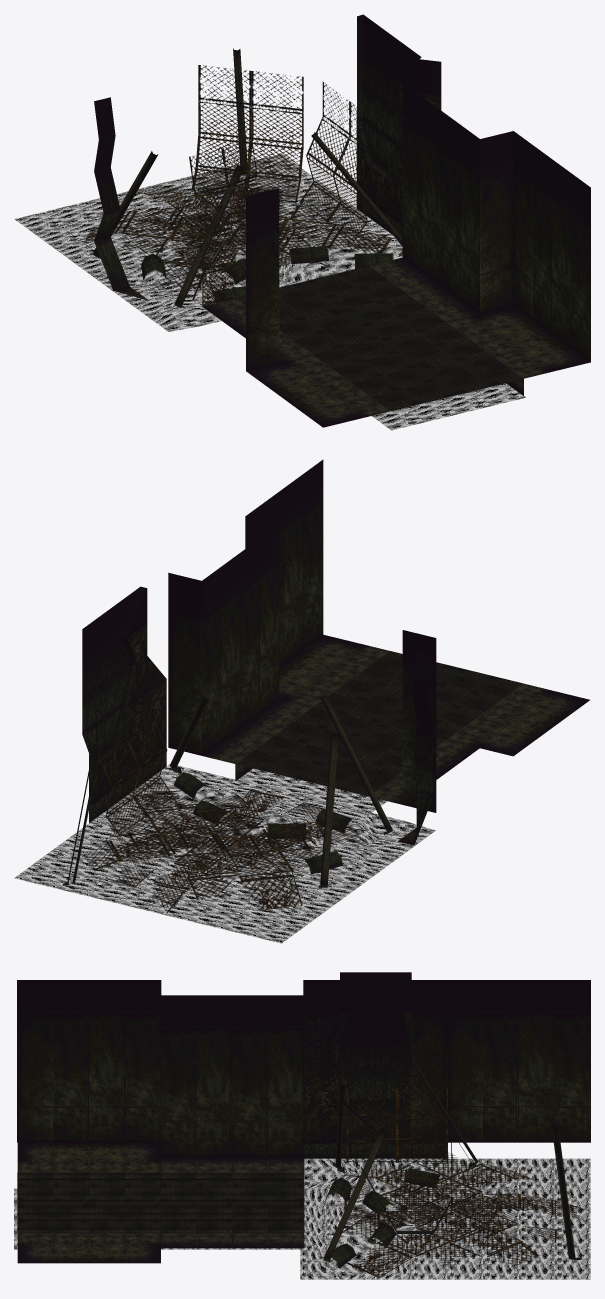
Rendered from DRFD00.glb.
3 renders of one model, top to bottom at view 1: azimuth 30°, elevation 25°; view 2: azimuth 150°, elevation 25°; view 3: azimuth 270°, elevation 25°, orthographic. The views are drawn at different scales.
Parts seen in each view (by area): view 1: MIZ2_DWA_m0, DEP#1_m0, KABE03_F_m0, W1_BACK0_m0, DR1401_m0, YUKNET00_m0, YUKNE_m0, SKIN1_m0, DEP_m0, AMI1_NEA_m0, AMI3_NEA_m0, AMI2_FAR_m0 (+8 smaller); view 2: MIZ2_DWA_m0, DEP#1_m0, W1_BACK0_m0, AMI1_NEA_m0, DR1401_m0, KABE03_F_m0, YUKNE_m0, AMI2_FAR_m0, YUKNET00_m0, AMI3_NEA_m0, DEP_m0, W2NU_BAC_m0 (+5 smaller); view 3: DR1401_m0, MIZ2_DWA_m0, DEP_m0, KABE10_B_m0, W2NU_BAC_m0, YUKNE_m0, YUKNET00_m0, AMI1_NEA_m0, AMI4_NEA_m0, AMI2_FAR_m0, DEP#1_m0, SKIN3_m0 (+8 smaller).
Boxes of the visible parts, x1,y1,x2,y2 form: MIZ2_DWA_m0: [14, 154, 402, 331]; DEP#1_m0: [370, 83, 513, 321]; KABE03_F_m0: [513, 131, 590, 362]; W1_BACK0_m0: [356, 14, 441, 237]; DR1401_m0: [246, 306, 590, 427]; YUKNET00_m0: [313, 322, 523, 411]; YUKNE_m0: [236, 265, 446, 354]; SKIN1_m0: [191, 65, 303, 203]; DEP_m0: [202, 188, 312, 370]; AMI1_NEA_m0: [81, 185, 335, 299]; AMI3_NEA_m0: [299, 81, 377, 242]; AMI2_FAR_m0: [137, 182, 391, 271]; MIZ2_DWA_m0: [14, 764, 435, 943]; DEP#1_m0: [168, 524, 311, 781]; W1_BACK0_m0: [82, 586, 166, 822]; AMI1_NEA_m0: [127, 793, 375, 913]; DR1401_m0: [279, 634, 589, 756]; KABE03_F_m0: [245, 459, 323, 666]; YUKNE_m0: [236, 707, 445, 796]; AMI2_FAR_m0: [84, 789, 310, 899]; YUKNET00_m0: [313, 651, 523, 739]; AMI3_NEA_m0: [96, 676, 173, 836]; DEP_m0: [374, 630, 479, 812]; W2NU_BAC_m0: [398, 652, 433, 845]; DR1401_m0: [17, 980, 161, 1263]; MIZ2_DWA_m0: [300, 1158, 590, 1279]; DEP_m0: [160, 995, 304, 1172]; KABE10_B_m0: [446, 980, 590, 1142]; W2NU_BAC_m0: [303, 972, 447, 1142]; YUKNE_m0: [160, 1172, 304, 1233]; YUKNET00_m0: [17, 1172, 160, 1233]; AMI1_NEA_m0: [340, 1152, 587, 1243]; AMI4_NEA_m0: [346, 1045, 447, 1162]; AMI2_FAR_m0: [343, 1182, 558, 1277]; DEP#1_m0: [160, 1233, 304, 1248]; SKIN3_m0: [304, 1142, 446, 1158].
Size of the model in its own units: 9 by 5.7 by 16.11.
Materials: 15 (15 with a texture image).
